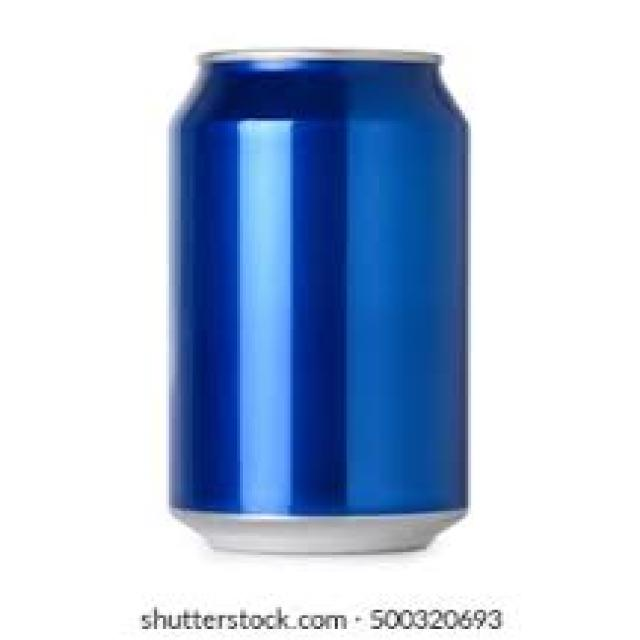Cans: (148, 41, 495, 558)
